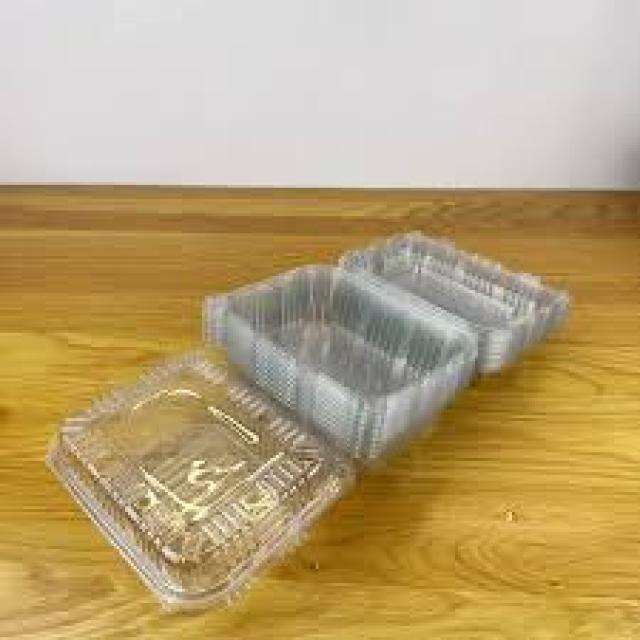disposable: (194, 244, 470, 472)
